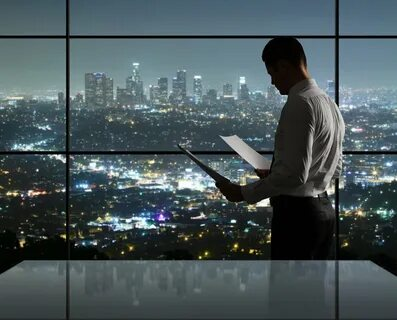awake: (215, 36, 345, 259)
